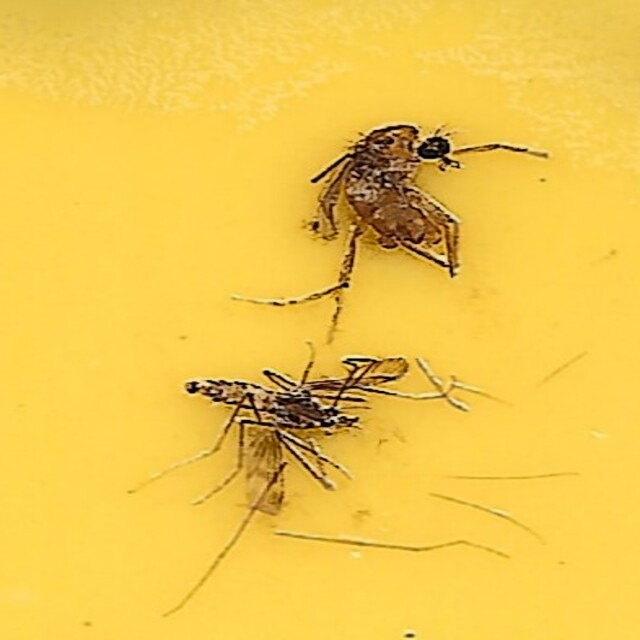Nematocera: (163, 355, 407, 520), (282, 120, 477, 266)
